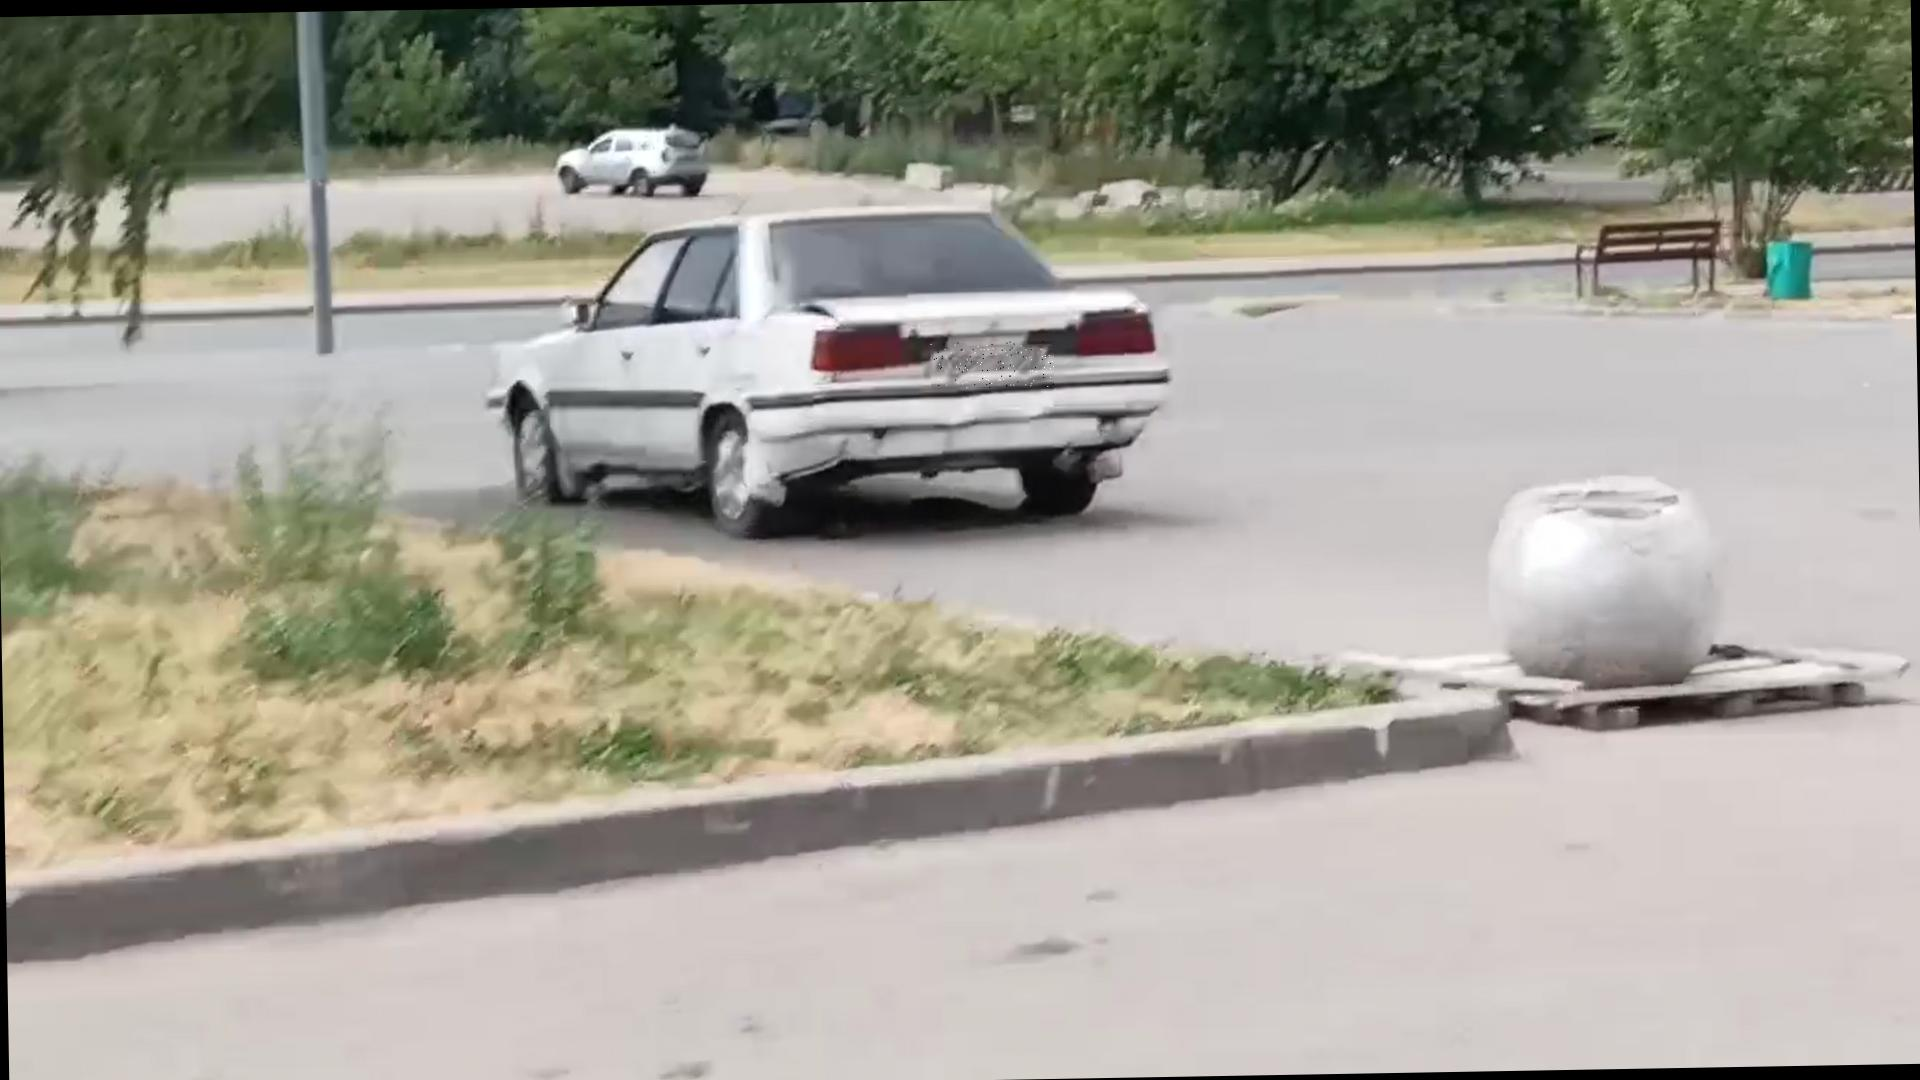plate: (933, 341, 1057, 390)
